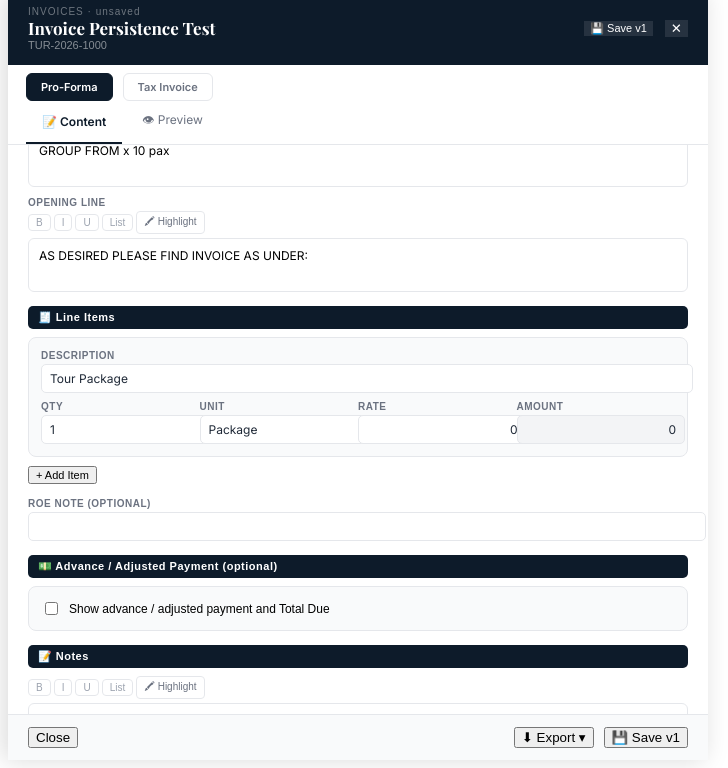
Test case: InvoiceGenerator: line item Amount is always Qty x Rate, computed not typed › changing Qty or Rate recomputes Amount automatically
(page scrolled)
Replace the text in the field showing "1" below "Qty" with "4" at (125, 430), box [41, 415, 210, 444]
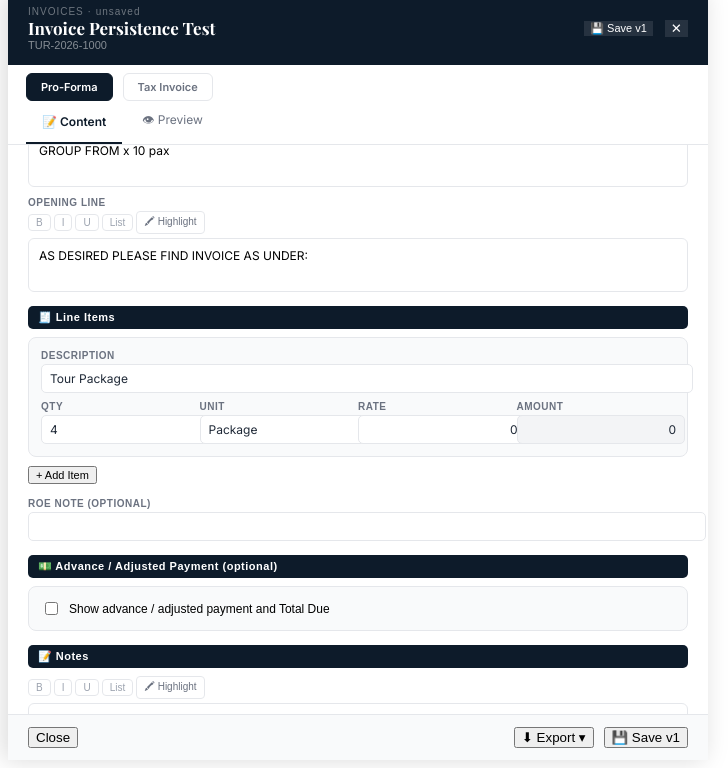
Replace the text in the field showing "0" below "Rate" with "250" at (442, 430), box [358, 415, 526, 444]
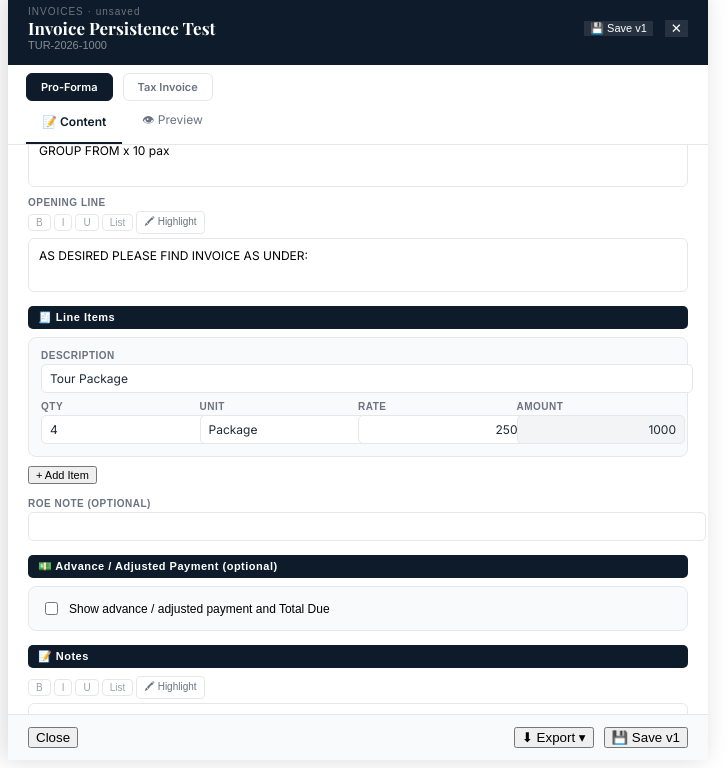
Check: the field showing "1000" below "Amount" is shown, box [516, 415, 685, 444]
